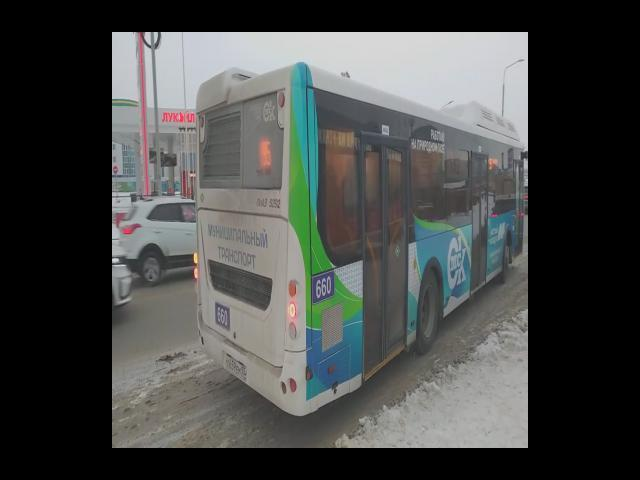bus: (196, 62, 524, 416)
car: (117, 193, 206, 291), (112, 234, 136, 309)
